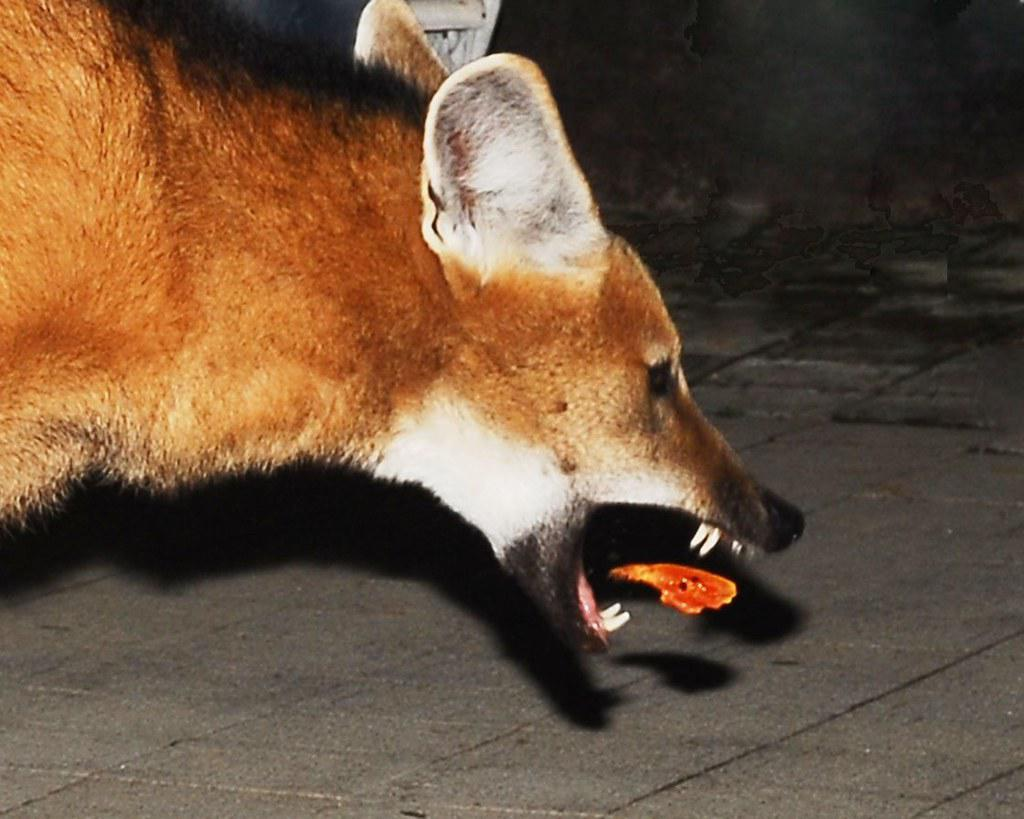LoboGuara: (26, 11, 840, 707)
